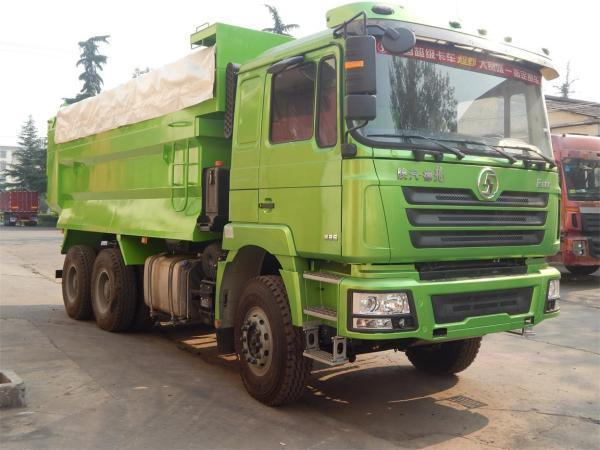truck: (33, 2, 572, 408)
